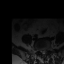CCS_normal: (42, 48, 44, 55)
LFS_normal: (46, 47, 48, 52)
LLS_normal: (44, 48, 46, 54)
RFS_severe_stenosis: (38, 48, 40, 52)
RLS_normal: (40, 48, 42, 54)
